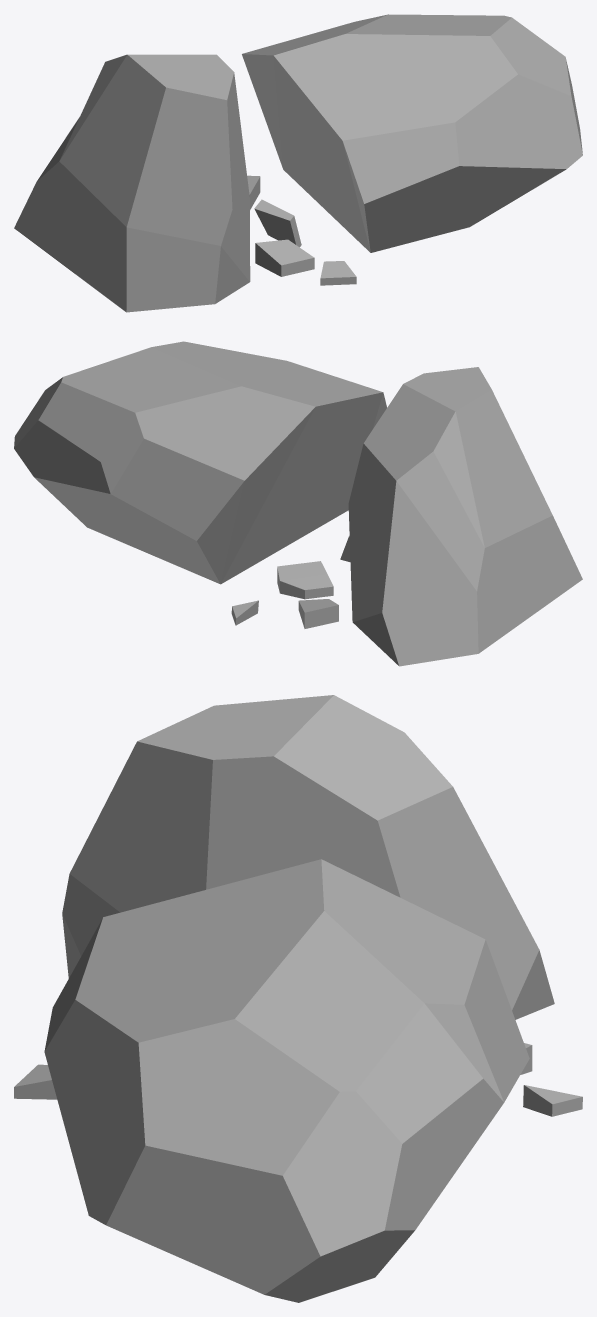
File: Rock_Round_crk_m_01.fbx
3 views of the same model, one above another, from view 1: azimuth 30°, elevation 25°; view 2: azimuth 150°, elevation 25°; view 3: azimuth 270°, elevation 25° (orthographic). The views are drawn at different scales.
Parts seen in each view (by area): view 1: Rock_Round_crk_m_01; view 2: Rock_Round_crk_m_01; view 3: Rock_Round_crk_m_01.
Part boxes in pixels (bbox=[...]): Rock_Round_crk_m_01: bbox=[14, 14, 582, 312]; Rock_Round_crk_m_01: bbox=[14, 341, 582, 666]; Rock_Round_crk_m_01: bbox=[14, 695, 582, 1302].
Bounding box in the file's own units: 157 × 60.32 × 95.02.
